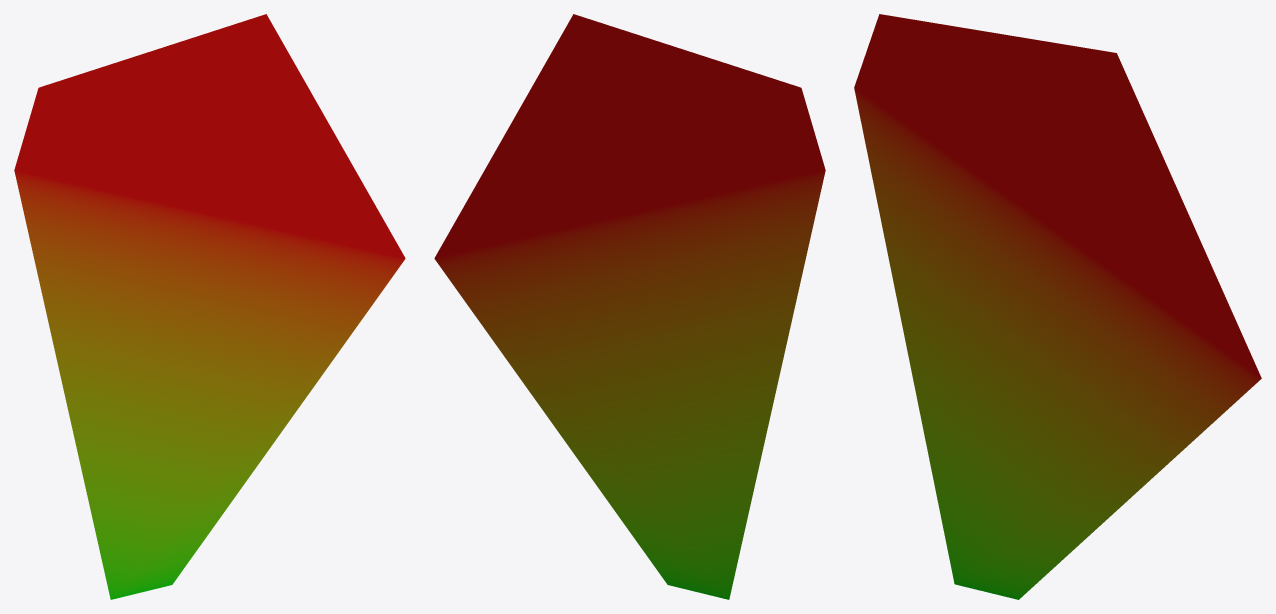
File: Carnation Weed_LOD3_Var8_smdpecor.fbx
3 views of the same model, side by side, from view 1: azimuth 30°, elevation 25°; view 2: azimuth 150°, elevation 25°; view 3: azimuth 330°, elevation 25° (orthographic). The views are drawn at different scales.
Visible parts, largest first — view 1: _d67f_Var8_LOD3; view 2: _d67f_Var8_LOD3; view 3: _d67f_Var8_LOD3.
Part boxes in pixels (x1,y1,x2,y2): _d67f_Var8_LOD3: (14, 14, 405, 599); _d67f_Var8_LOD3: (434, 14, 825, 599); _d67f_Var8_LOD3: (854, 14, 1261, 599).
Bounding box in the file's own units: 18.02 × 24.11 × 6.41e-07.
